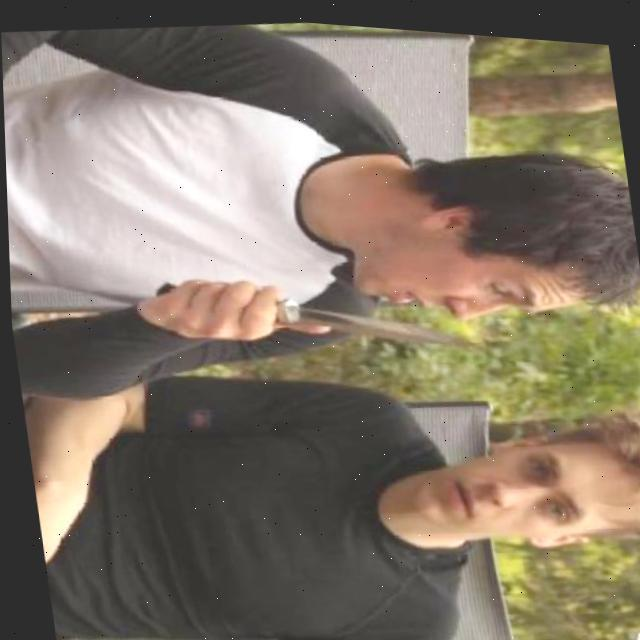knife: (151, 250, 470, 374)
